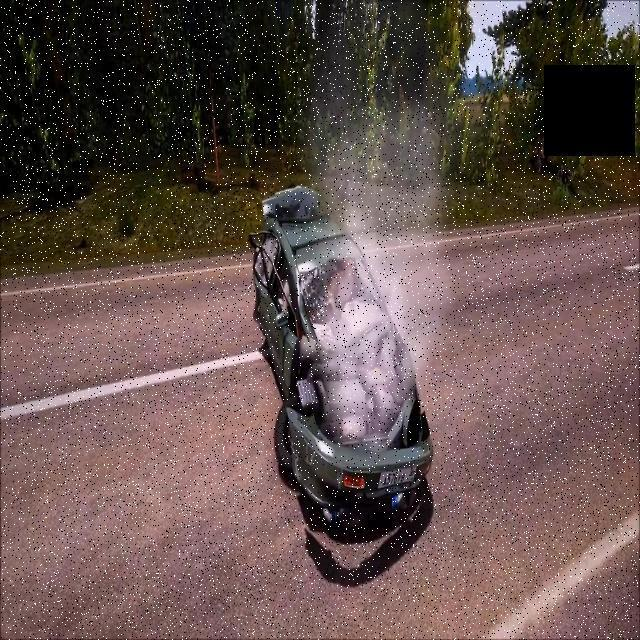single accident: (208, 123, 462, 563)
